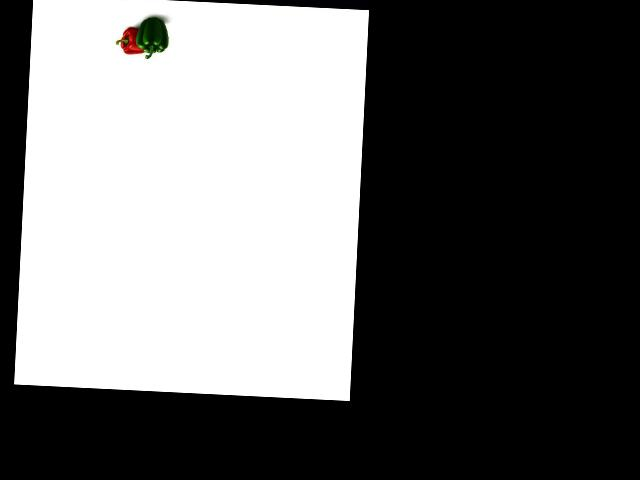bell_pepper: (115, 27, 146, 58)
